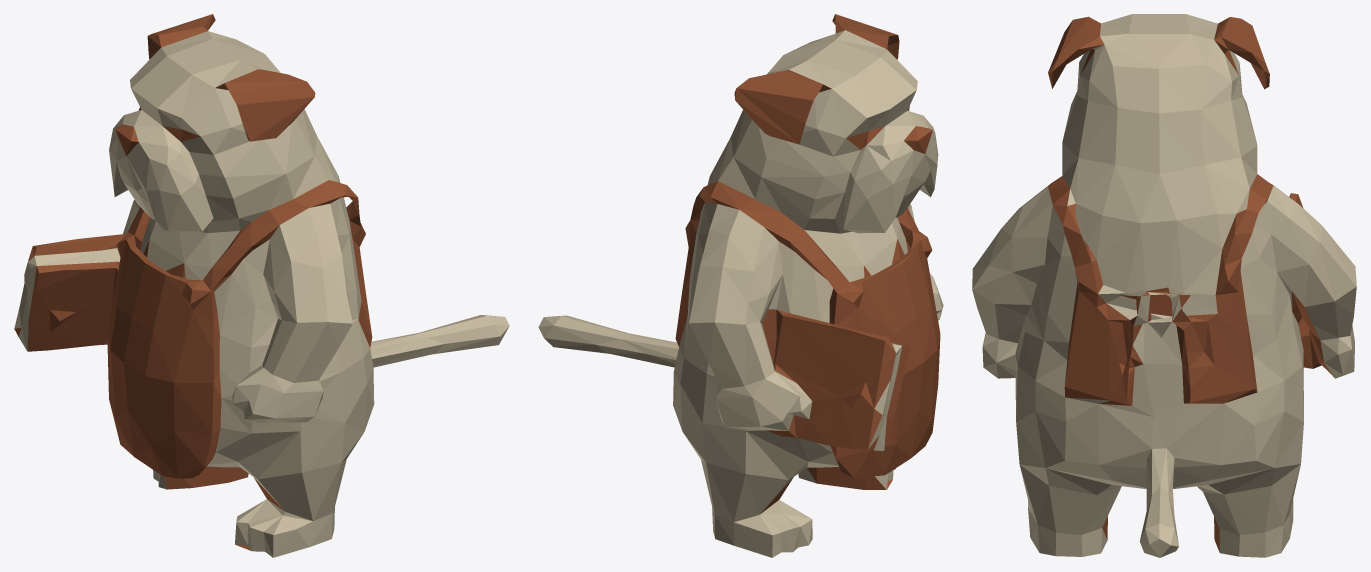
3 renders of one model, left to right at view 1: azimuth 30°, elevation 25°; view 2: azimuth 150°, elevation 25°; view 3: azimuth 270°, elevation 25°, orthographic. The views are drawn at different scales.
Visible parts, largest first — view 1: lion-1500; view 2: lion-1500; view 3: lion-1500.
Part boxes in pixels (left/top/right/bottom): lion-1500: left=14, top=14, right=509, bottom=557; lion-1500: left=538, top=14, right=943, bottom=557; lion-1500: left=972, top=14, right=1356, bottom=557.
Bounding box in the file's own units: 0.8397 × 0.8884 × 0.6271.
